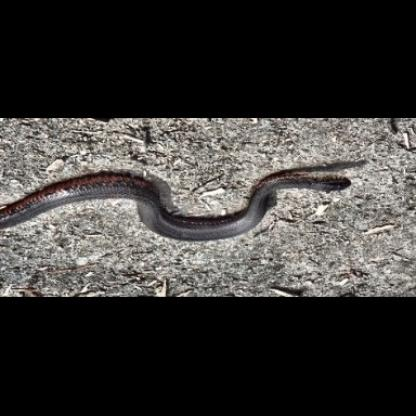Snake: (0, 132, 374, 287)
